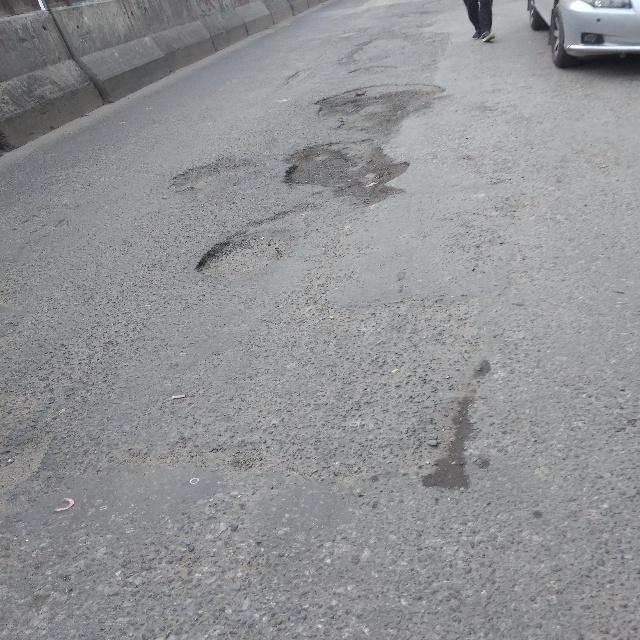Surface Erosion: (120, 64, 442, 338)
